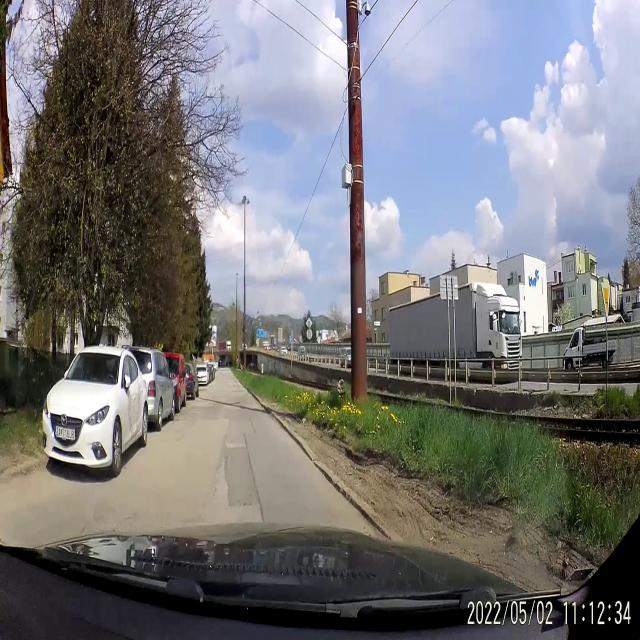Pothole: (225, 436, 252, 454)
